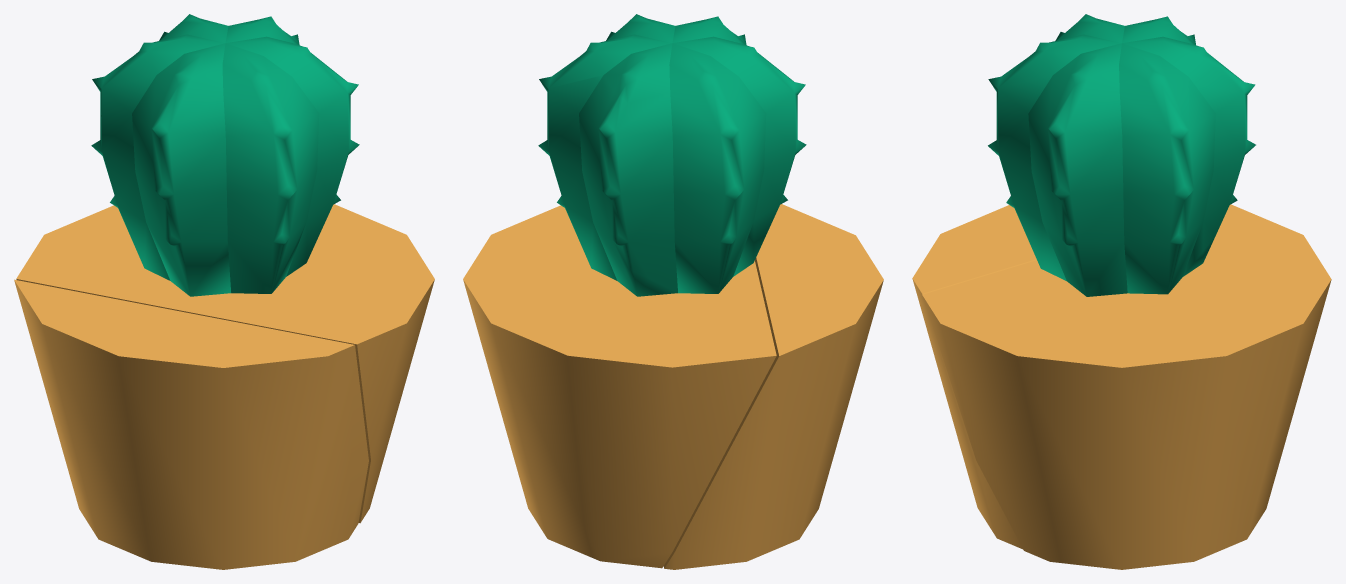
The model's file is cactus_new_sliced.fbx.
3 renders of one model, left to right at view 1: azimuth 30°, elevation 25°; view 2: azimuth 150°, elevation 25°; view 3: azimuth 270°, elevation 25°, orthographic.
Parts seen in each view (by area): view 1: Tube_1, cactus_mesh, Tube; view 2: Tube, cactus_mesh, Tube_1; view 3: Tube, cactus_mesh, Tube_1.
Part boxes in pixels (x1,y1,x2,y2): Tube_1: [14, 279, 368, 569]; cactus_mesh: [91, 14, 359, 296]; Tube: [16, 204, 434, 523]; Tube: [463, 205, 776, 568]; cactus_mesh: [538, 14, 806, 296]; Tube_1: [663, 204, 883, 569]; Tube: [922, 204, 1331, 569]; cactus_mesh: [988, 14, 1255, 296]; Tube_1: [912, 205, 1036, 549].
Size of the model in its own units: 68.14 by 83.63 by 67.75.
